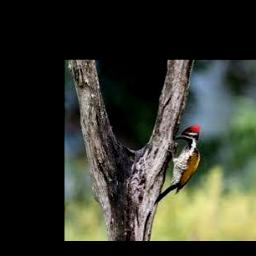Woodpecker: (154, 126, 200, 204)
